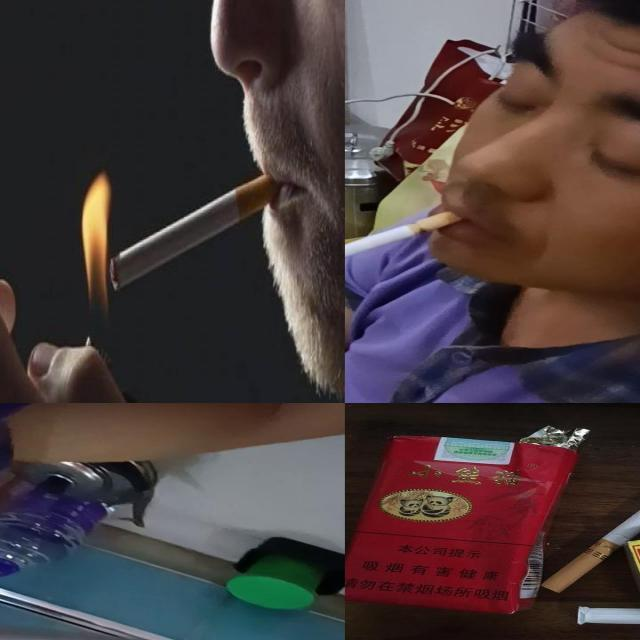cigarette: (110, 172, 277, 292), (541, 470, 639, 594), (345, 210, 463, 278), (0, 606, 159, 640), (576, 605, 639, 627)
